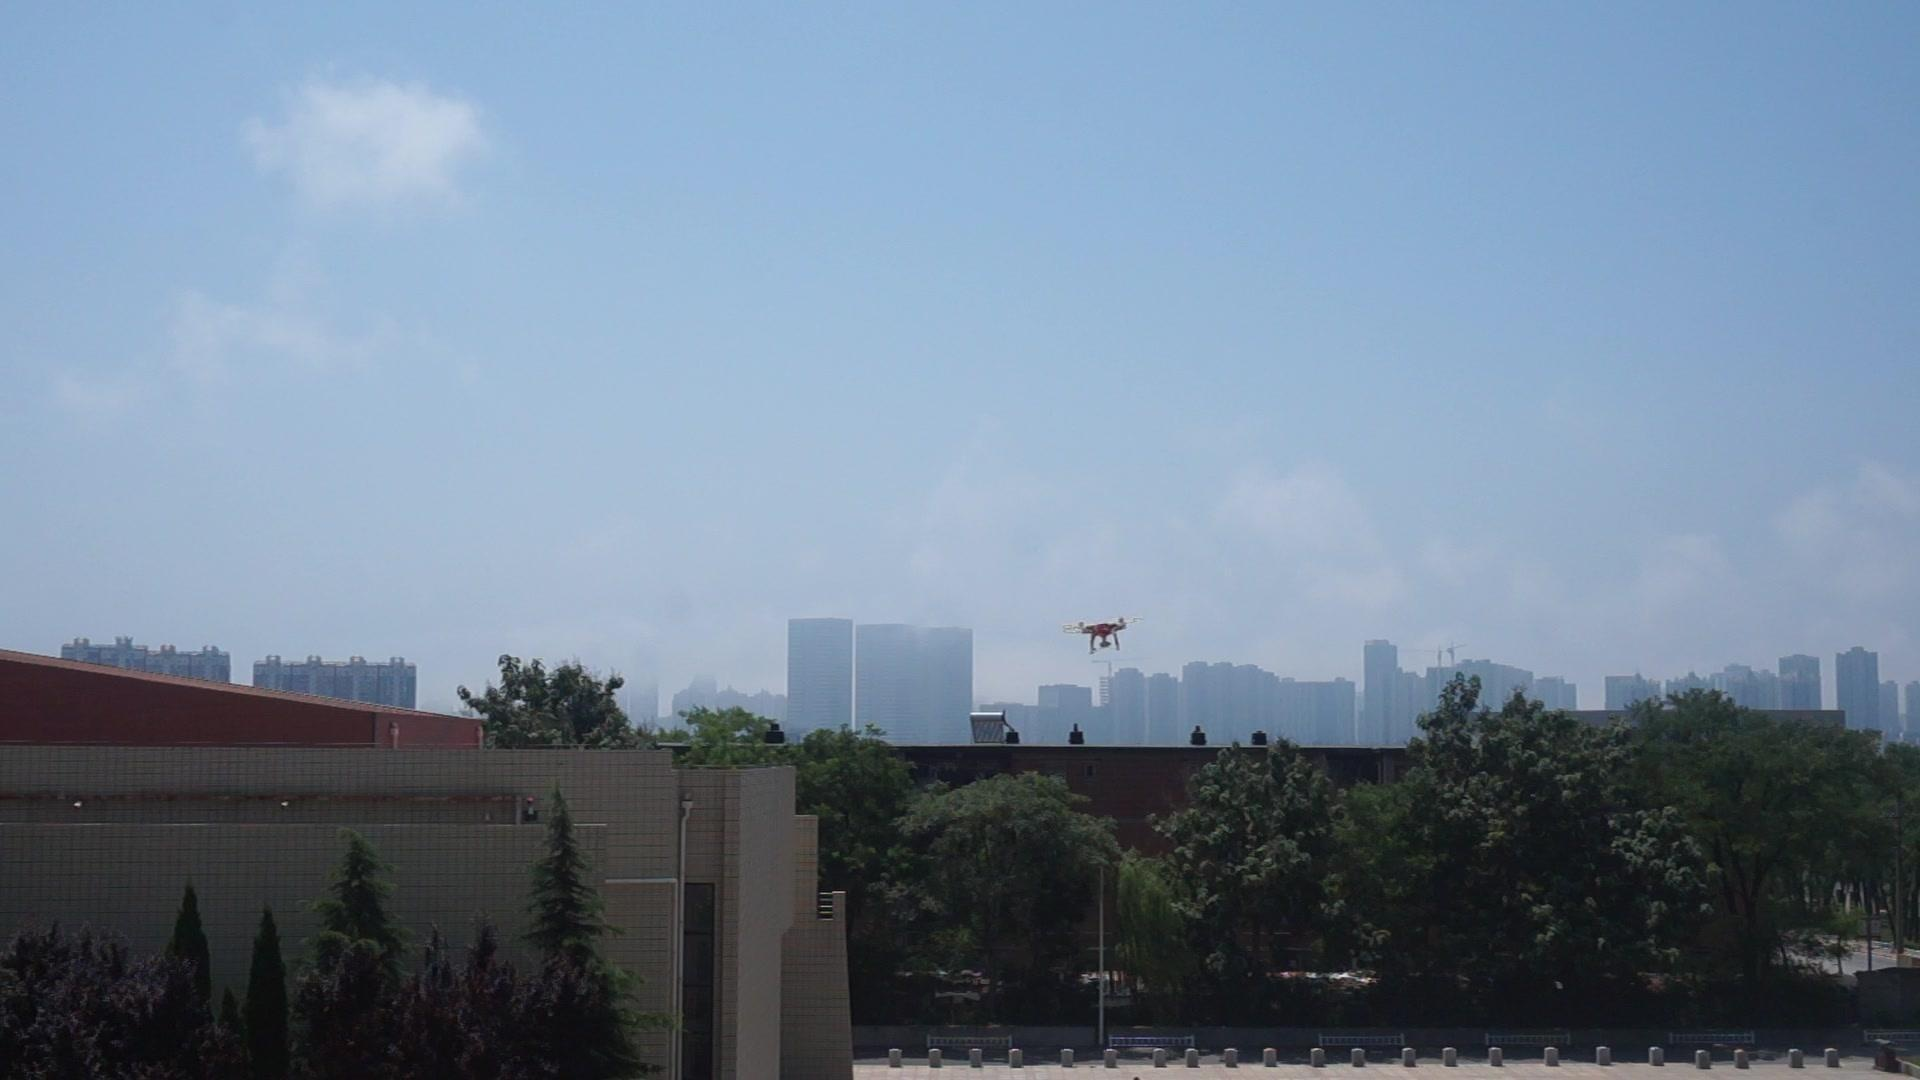UAV: (1063, 617, 1146, 655)
